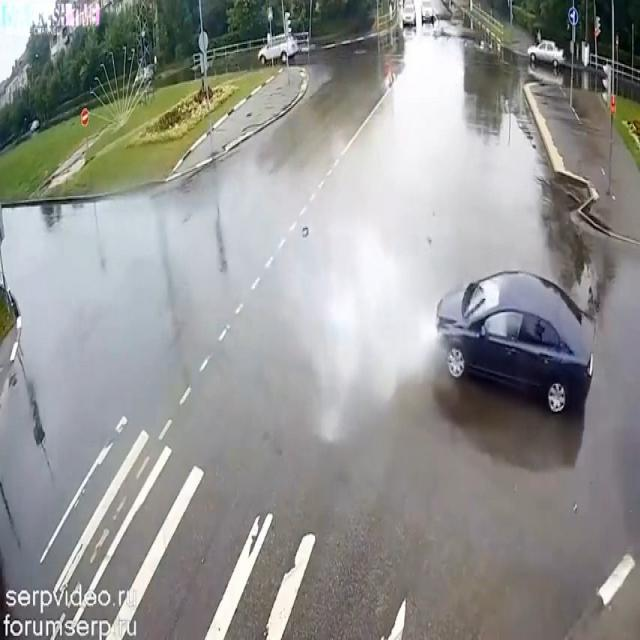Accident: (421, 231, 612, 465)
